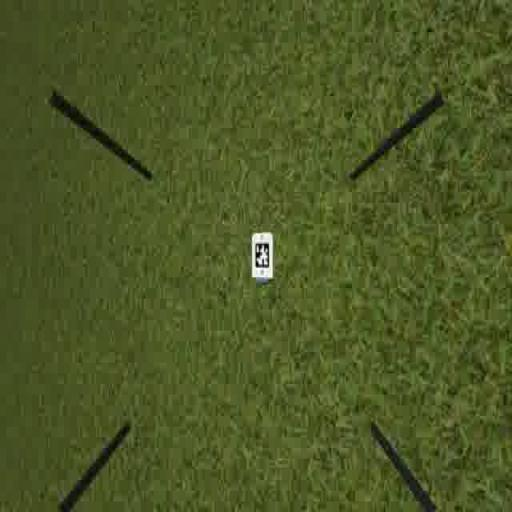UGV: (248, 228, 277, 284)
